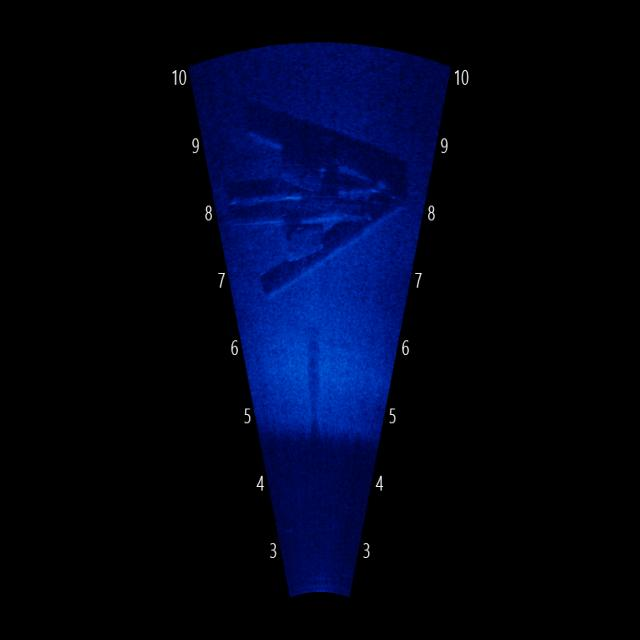triangle: (222, 98, 413, 302)
